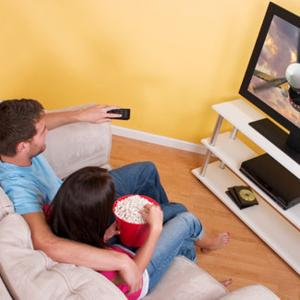person: (2, 99, 190, 292)
